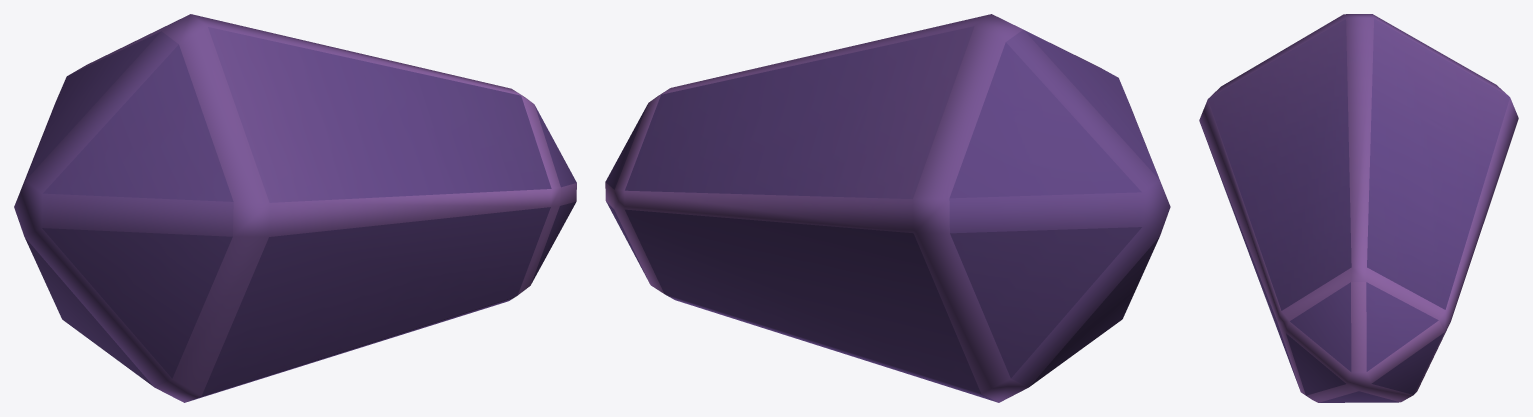
The model's file is christal_amethyst_3.fbx.
3 views of the same model, side by side, from view 1: azimuth 30°, elevation 25°; view 2: azimuth 150°, elevation 25°; view 3: azimuth 270°, elevation 25° (orthographic). The views are drawn at different scales.
Parts seen in each view (by area): view 1: christal_amethyst_3; view 2: christal_amethyst_3; view 3: christal_amethyst_3.
Boxes of the visible parts, box(x1,y1,x2,y2) form: christal_amethyst_3: box(14, 14, 576, 402); christal_amethyst_3: box(605, 14, 1170, 402); christal_amethyst_3: box(1199, 14, 1518, 402).
Size of the model in its own units: 69.47 by 39.84 by 42.77.
1 material, 1 textured.
